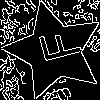F: (29, 26, 83, 68)
